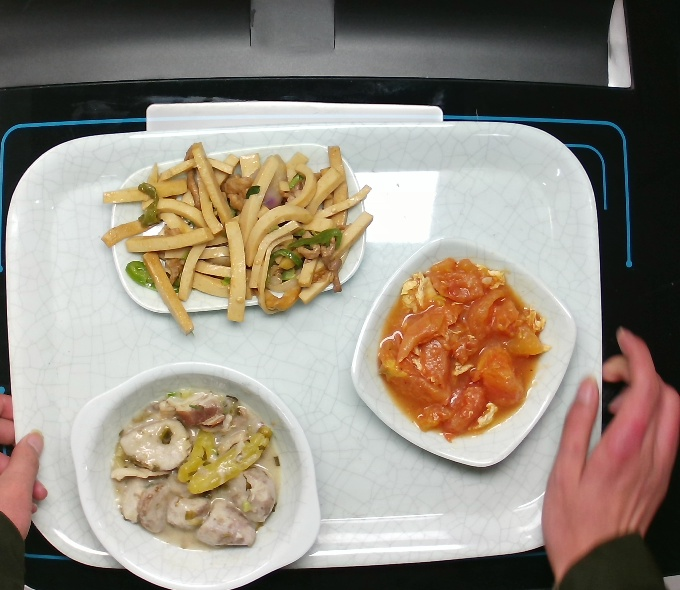wcq-FanQieChaoDan: (371, 252, 557, 447)
wcq-QianYeDouFu: (96, 134, 380, 339)
wcq-YangYu: (104, 383, 289, 556)
